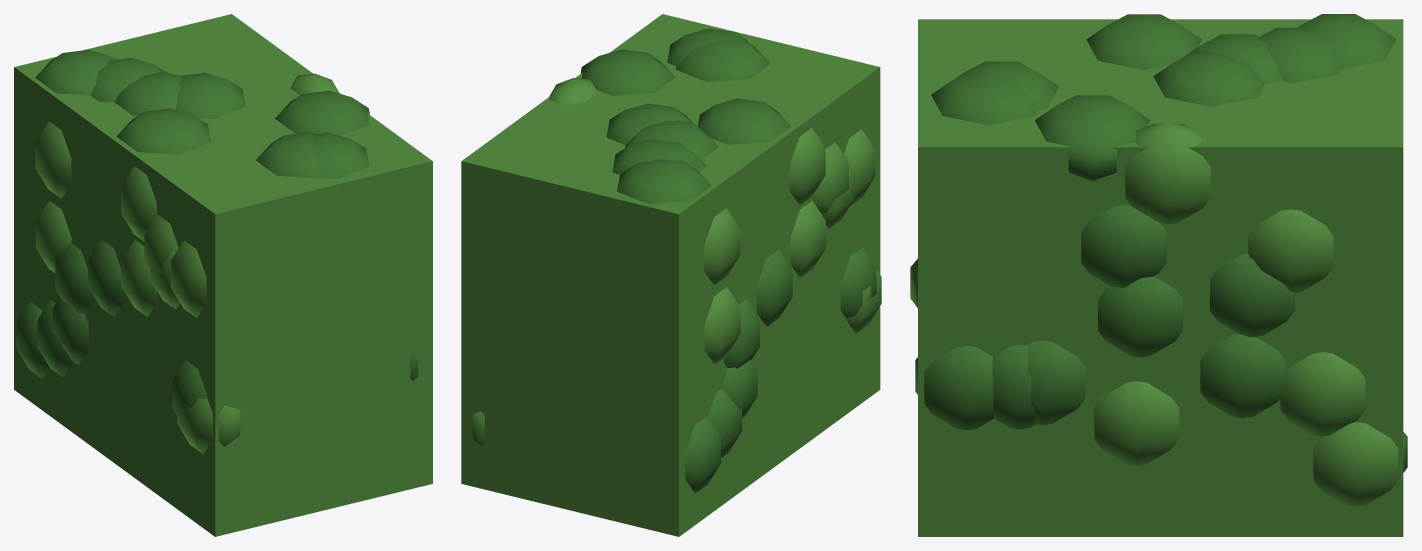
Rendered from hedge.glb.
3 views of the same model, side by side, from view 1: azimuth 30°, elevation 25°; view 2: azimuth 150°, elevation 25°; view 3: azimuth 270°, elevation 25° (orthographic). The views are drawn at different scales.
Visible parts, largest first — view 1: hedge; view 2: hedge; view 3: hedge.
Part boxes in pixels (x1,y1,x2,y2): hedge: (14, 14, 432, 536); hedge: (461, 14, 881, 536); hedge: (910, 14, 1407, 536).
Size of the model in its own units: 0.6646 by 0.9 by 0.9829.
